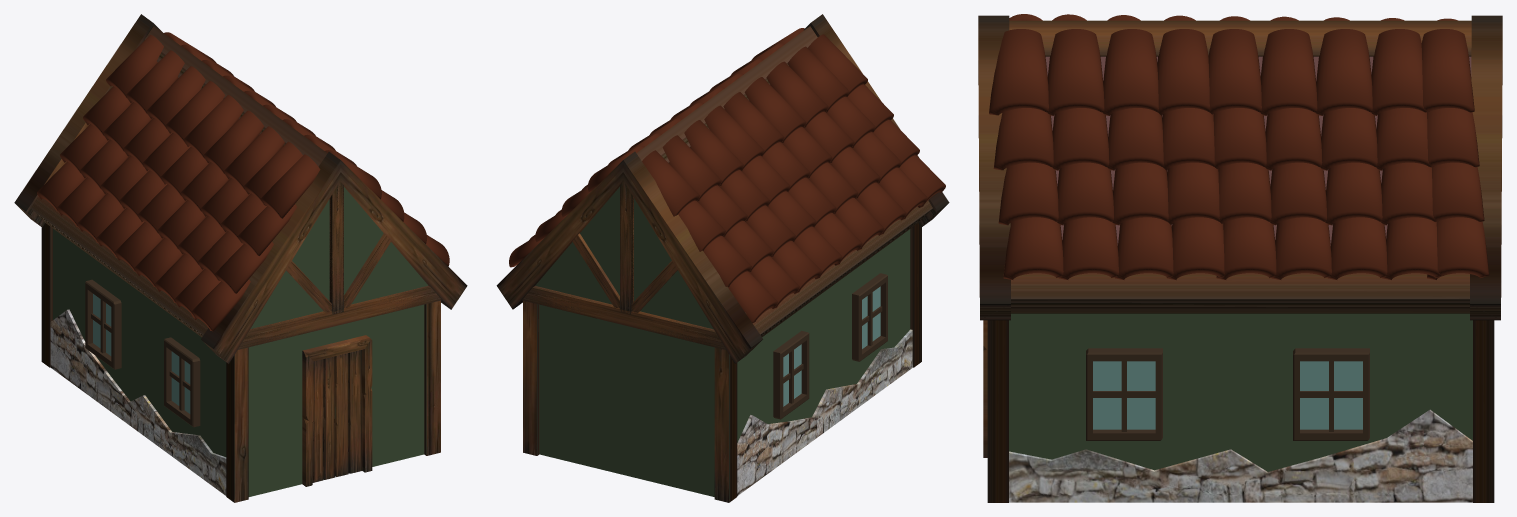
File: SM_House_002.fbx
3 renders of one model, left to right at view 1: azimuth 30°, elevation 25°; view 2: azimuth 150°, elevation 25°; view 3: azimuth 270°, elevation 25°, orthographic. The views are drawn at different scales.
Parts seen in each view (by area): view 1: Plane.014; view 2: Plane.014; view 3: Plane.014.
Boxes of the visible parts, x1,y1,x2,y2 form: Plane.014: (14,14,467,502); Plane.014: (496,14,949,502); Plane.014: (978,14,1502,502).
Size of the model in its own units: 466 by 556 by 628.
